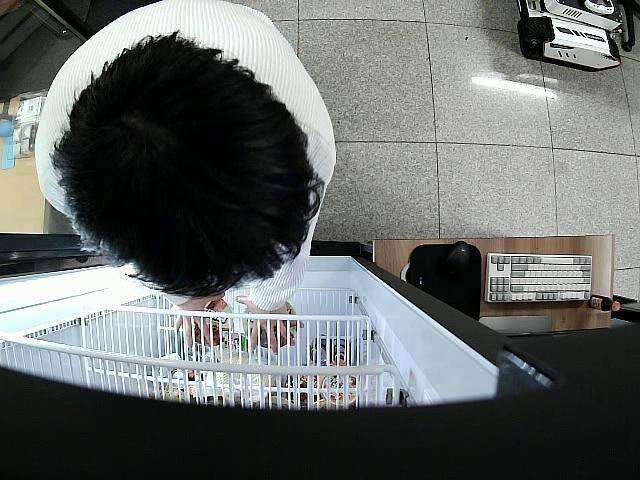03_chapagetti_L: (245, 302, 298, 349), (193, 296, 236, 346)
